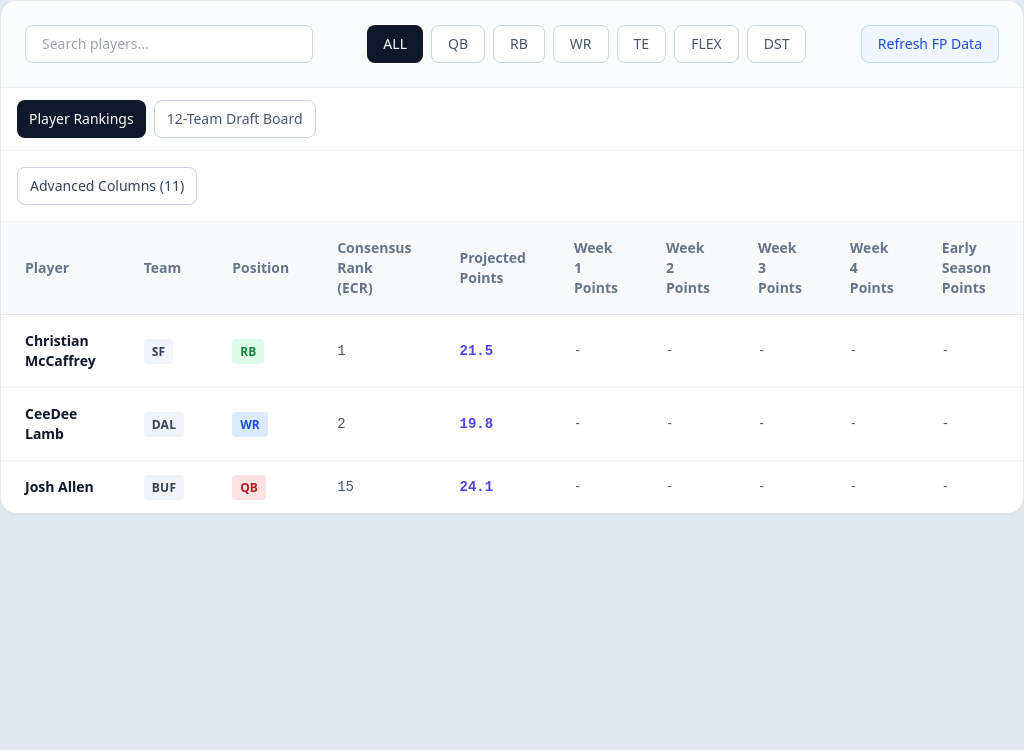
Test: DashboardClient › renders a 12-team draft board with 12 rounds
Click the tab with test id "tab-draft-board". click: (235,119)
box: x1=154 y1=100 x2=316 y2=138
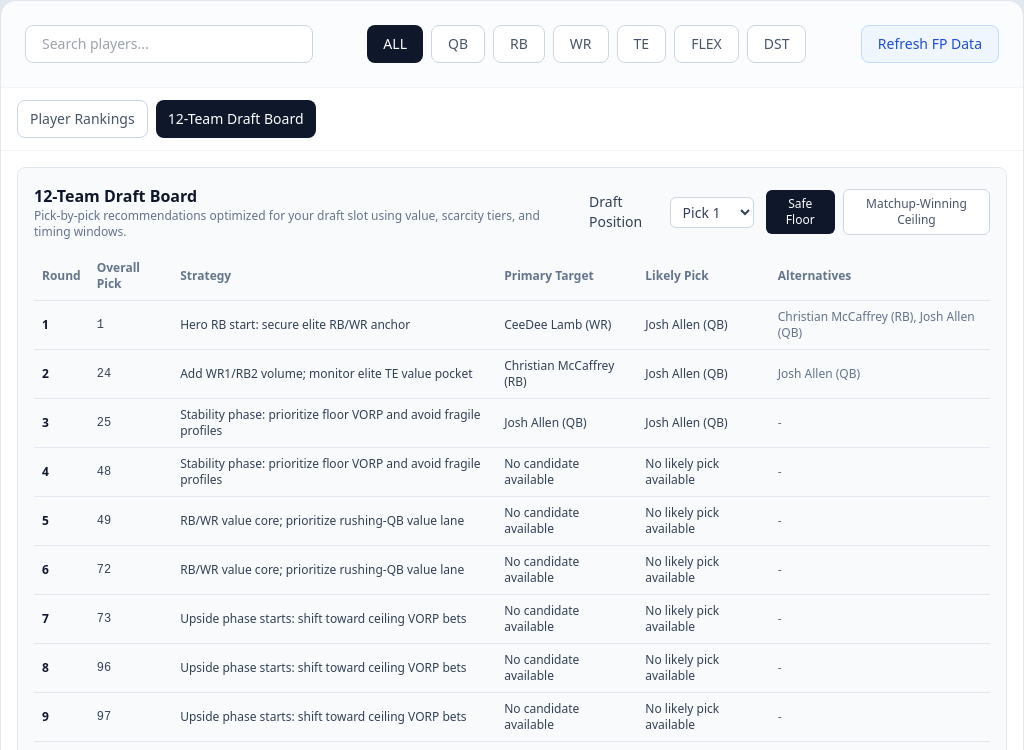
Expected: the cell with test id "draft-board-pick-1" reads "1", x1=97 y1=318 x2=104 y2=332
Expected: the column heading "Likely Pick" is shown, x1=637 y1=252 x2=770 y2=300
Expected: the cell with test id "draft-board-likely-1" reads "Josh Allen (QB)", x1=645 y1=316 x2=728 y2=333
